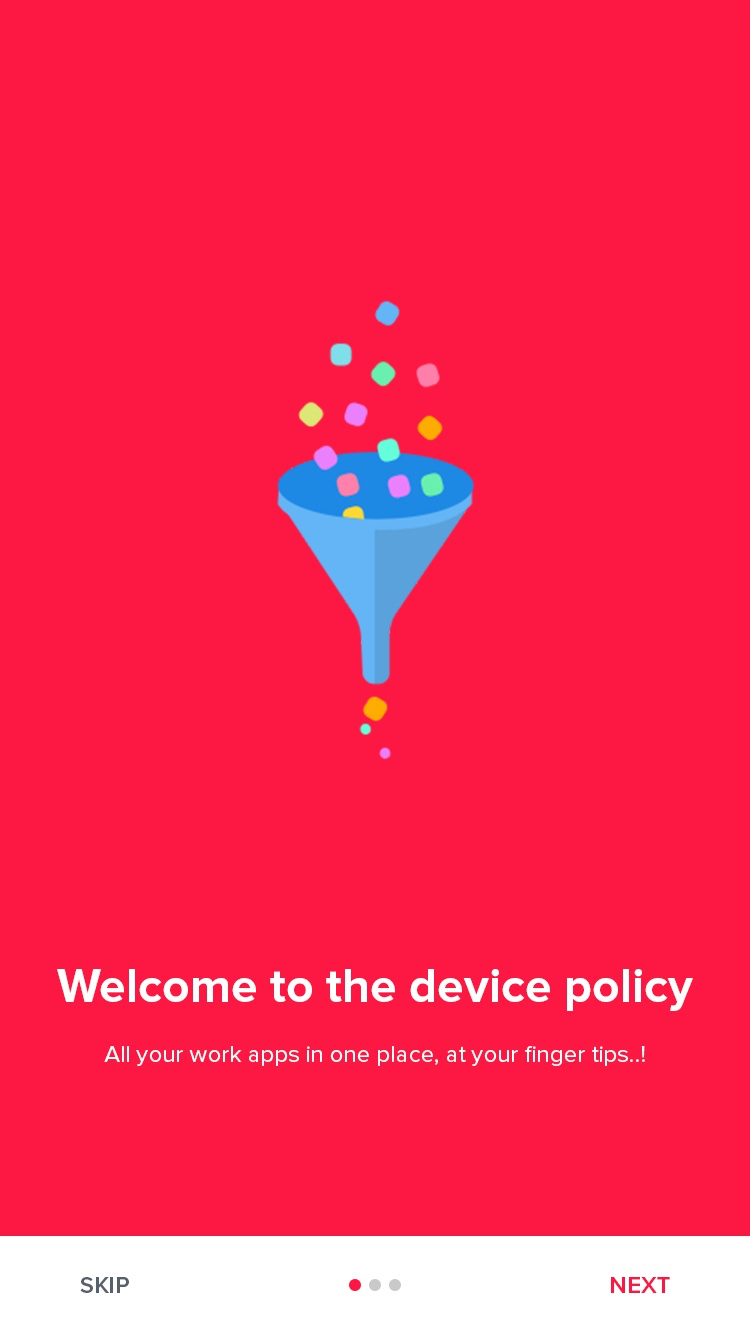Image: (277, 301, 474, 761)
PageIndicator: (348, 1278, 402, 1292)
Text: (56, 968, 694, 1012), (104, 1045, 646, 1068), (611, 1276, 671, 1294), (81, 1276, 131, 1294)
